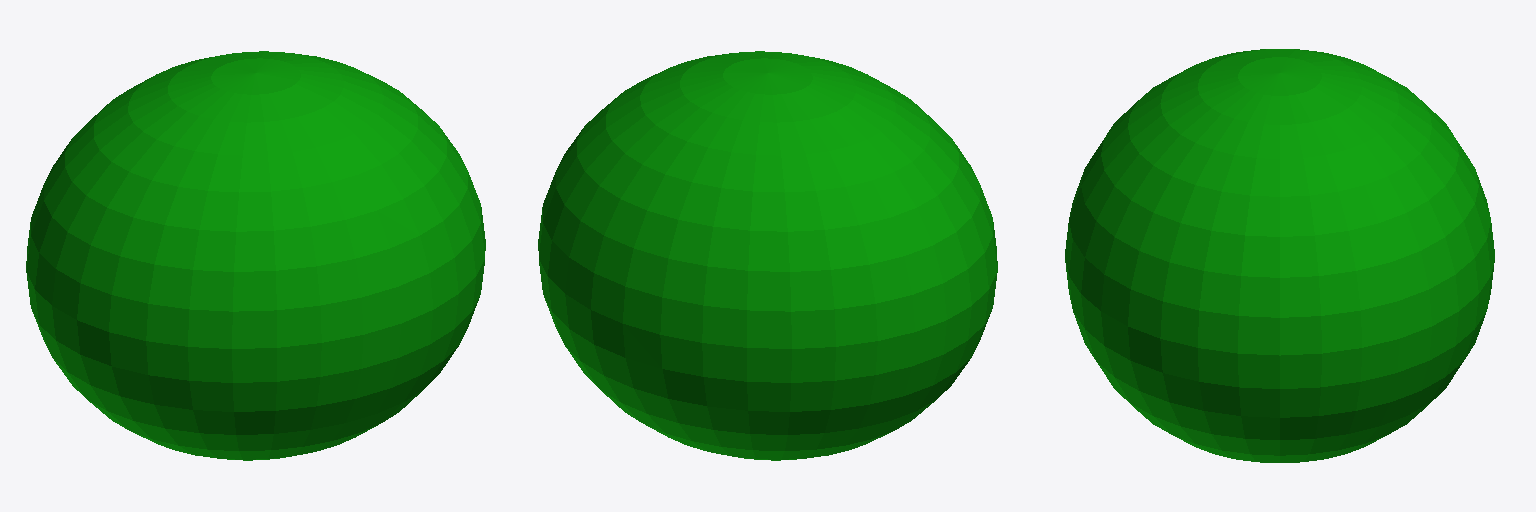
The model's file is moya_rice_g.obj.
The picture shows the model from 3 angles: view 1: azimuth 30°, elevation 25°; view 2: azimuth 150°, elevation 25°; view 3: azimuth 270°, elevation 25°; orthographic projection.
Parts seen in each view (by area): view 1: Sphere_Sphere.005_Sphere_Sphere.007; view 2: Sphere_Sphere.005_Sphere_Sphere.007; view 3: Sphere_Sphere.005_Sphere_Sphere.007.
Part boxes in pixels (x1,y1,x2,y2): Sphere_Sphere.005_Sphere_Sphere.007: (26,51,485,460); Sphere_Sphere.005_Sphere_Sphere.007: (538,51,997,460); Sphere_Sphere.005_Sphere_Sphere.007: (1065,49,1494,462).
Bounding box in the file's own units: 0.2297 × 0.1969 × 0.21.